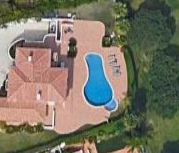pool: (84, 55, 112, 108)
